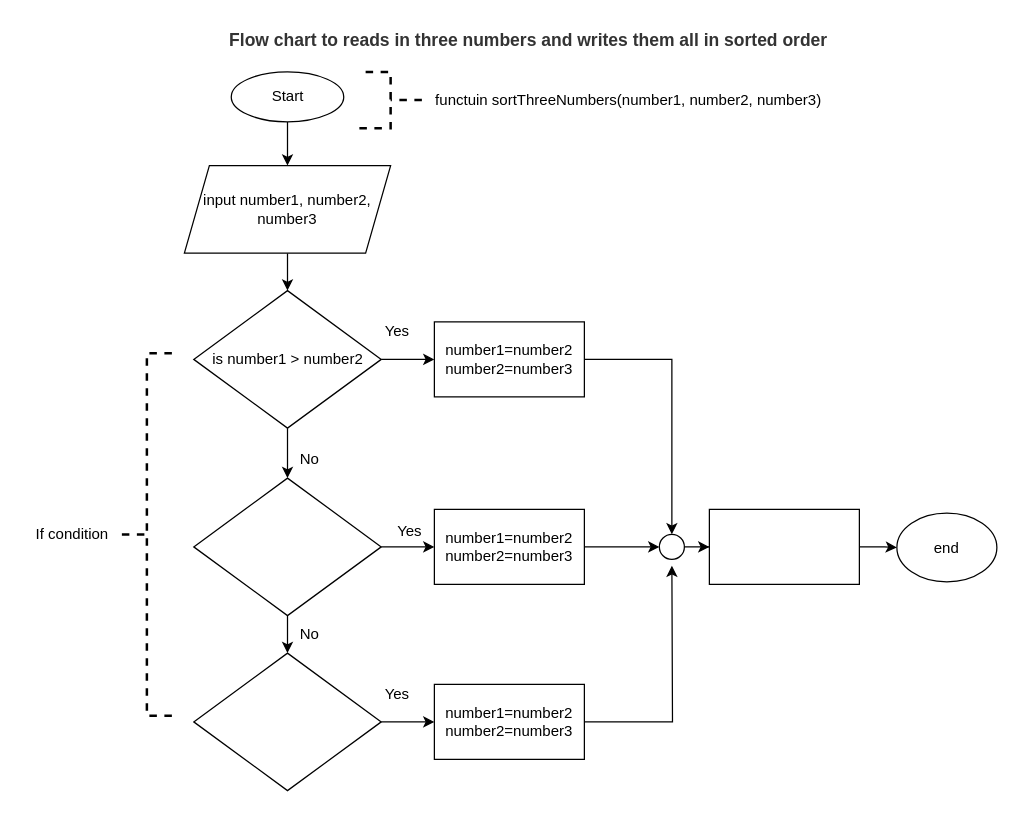
The diagram is 1019 pixels wide and 813 high, and some of its shapes have lost their labels. The box of each missing label's shape, as (x1, y1, x2, y2) in pixels:
is number1 > number3: (192, 477, 381, 616)
is number2 > number3: (192, 652, 381, 791)
Print numbers in sorted order: (708, 508, 859, 584)
